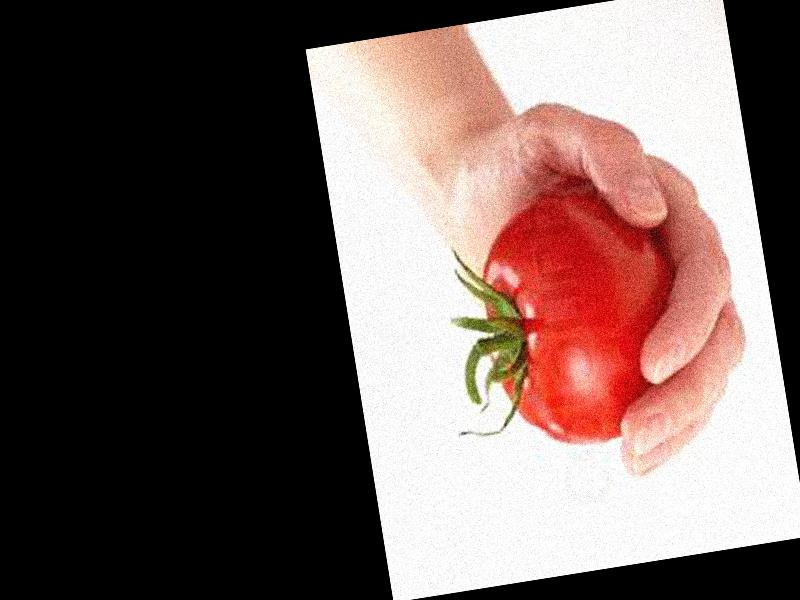Tomato: (467, 184, 695, 457)
